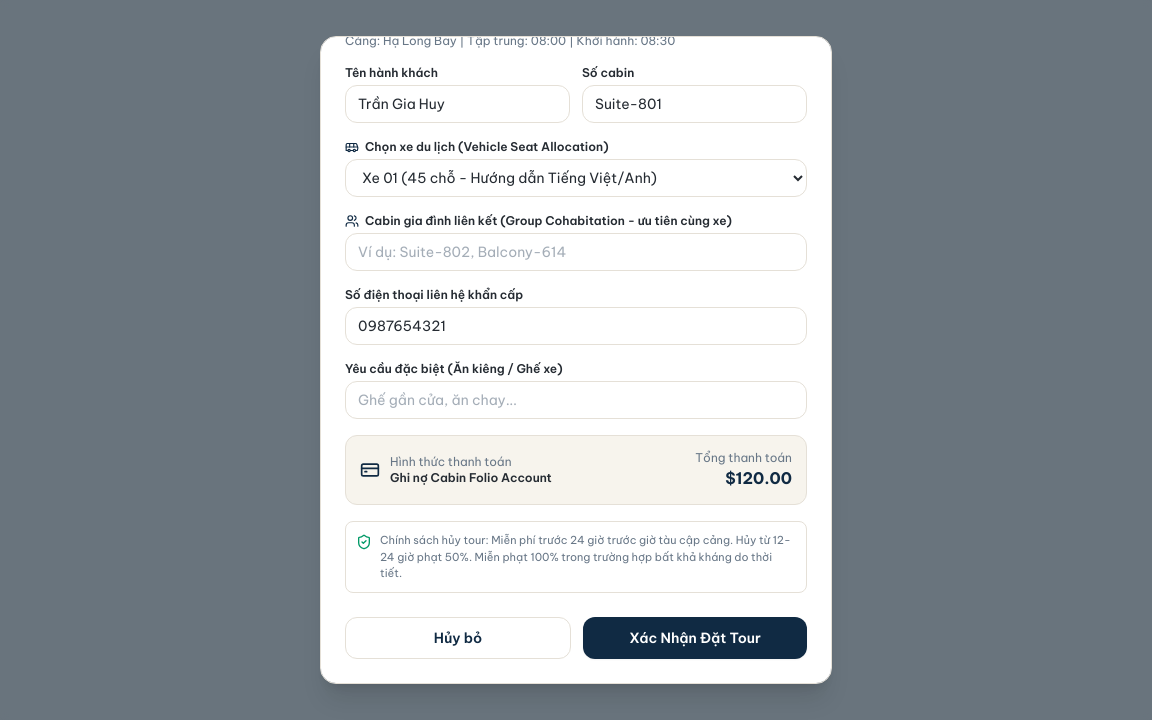
Scenario: Excursion Booking & Cancellation Component Tests (KAN-380) › PassengerBookingModal › submits booking and displays ticket code upon success
(page scrolled)
Click the button "Xác Nhận Đặt Tour" at (695, 638), box [583,616,807,658]
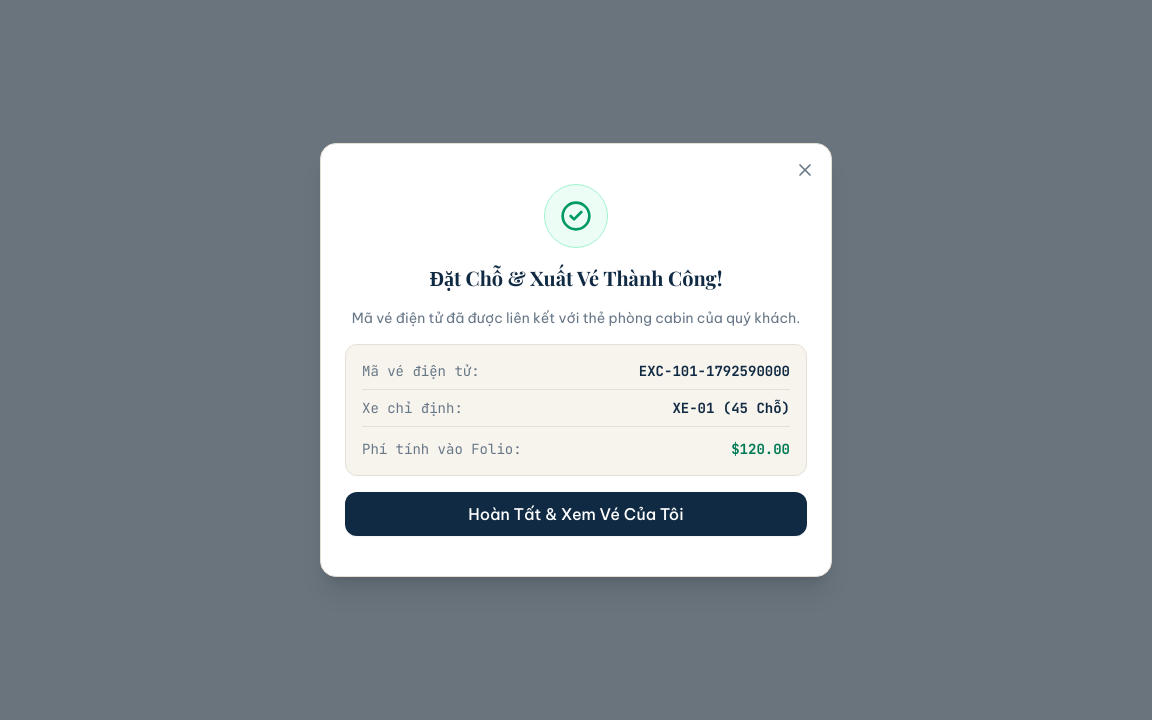
Expected: the heading "Đặt Chỗ & Xuất Vé Thành Công!" is shown, [430,264,722,291]
Expected: the text "EXC-101-1792590000" is shown, [639,361,790,381]
